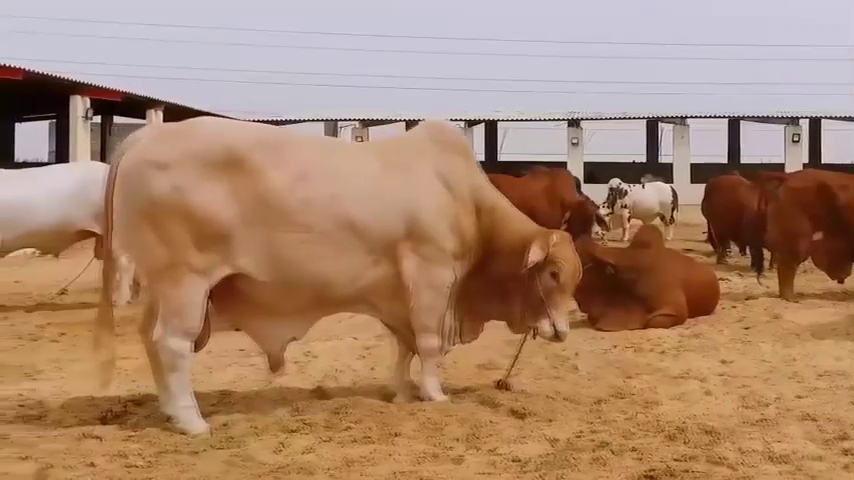bo: (87, 116, 584, 417), (3, 159, 141, 309), (559, 217, 725, 336), (750, 163, 851, 307), (479, 153, 606, 246), (596, 172, 683, 241), (700, 164, 758, 261)
